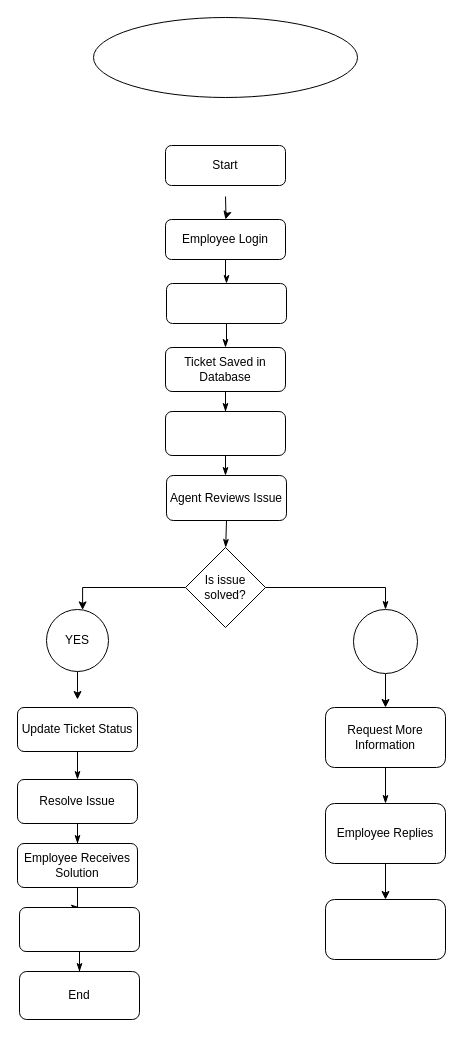
The diagram is 463 pixels wide and 1037 high, and some of its shapes have lost their labels. The centre of each missing label's shape, as x and y in pixels:
Agent Reviews: the point at 385,929
Close Ticket: the point at 79,929
Create Support Ticket: the point at 226,303
IT Help Desk - Ticket Management Workflow: the point at 225,57
NO: the point at 385,641
Ticket Assigned to IT Agent: the point at 225,433
